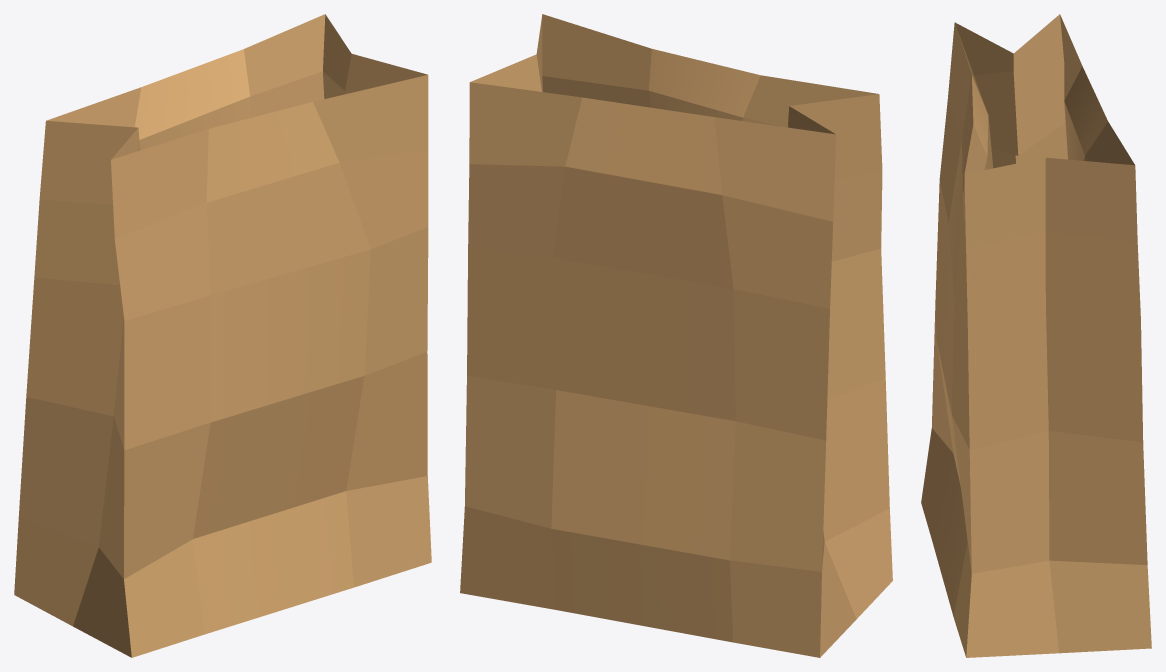
File: Kardus.fbx
The picture shows the model from 3 angles, left to right: view 1: azimuth 30°, elevation 25°; view 2: azimuth 150°, elevation 25°; view 3: azimuth 270°, elevation 25°; orthographic projection. The views are drawn at different scales.
Parts seen in each view (by area): view 1: Kardus; view 2: Kardus; view 3: Kardus.
Part boxes in pixels (x1=…): Kardus: x1=14, y1=14, x2=431, y2=657; Kardus: x1=460, y1=14, x2=892, y2=657; Kardus: x1=921, y1=14, x2=1151, y2=657.
Bounding box in the file's own units: 240 × 327 × 141.
